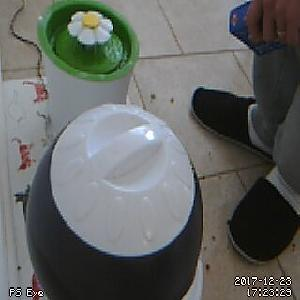fountain: (36, 1, 140, 82)
